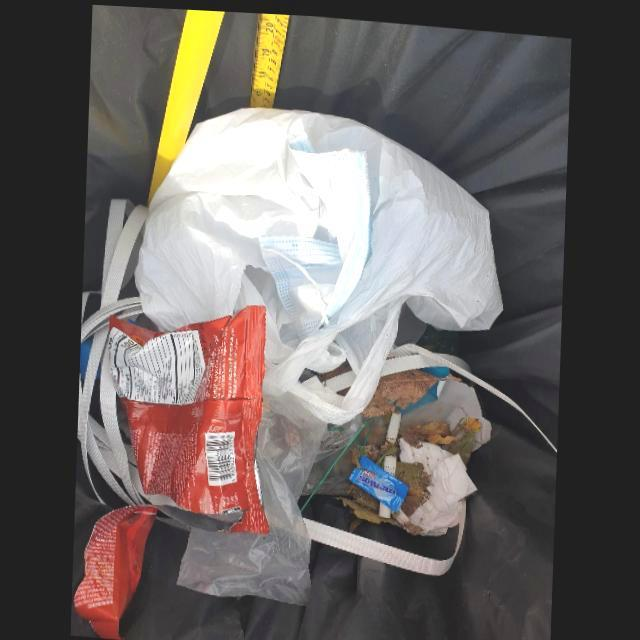food_wrapper: (70, 298, 270, 638)
plastic_bag: (136, 104, 500, 427)
